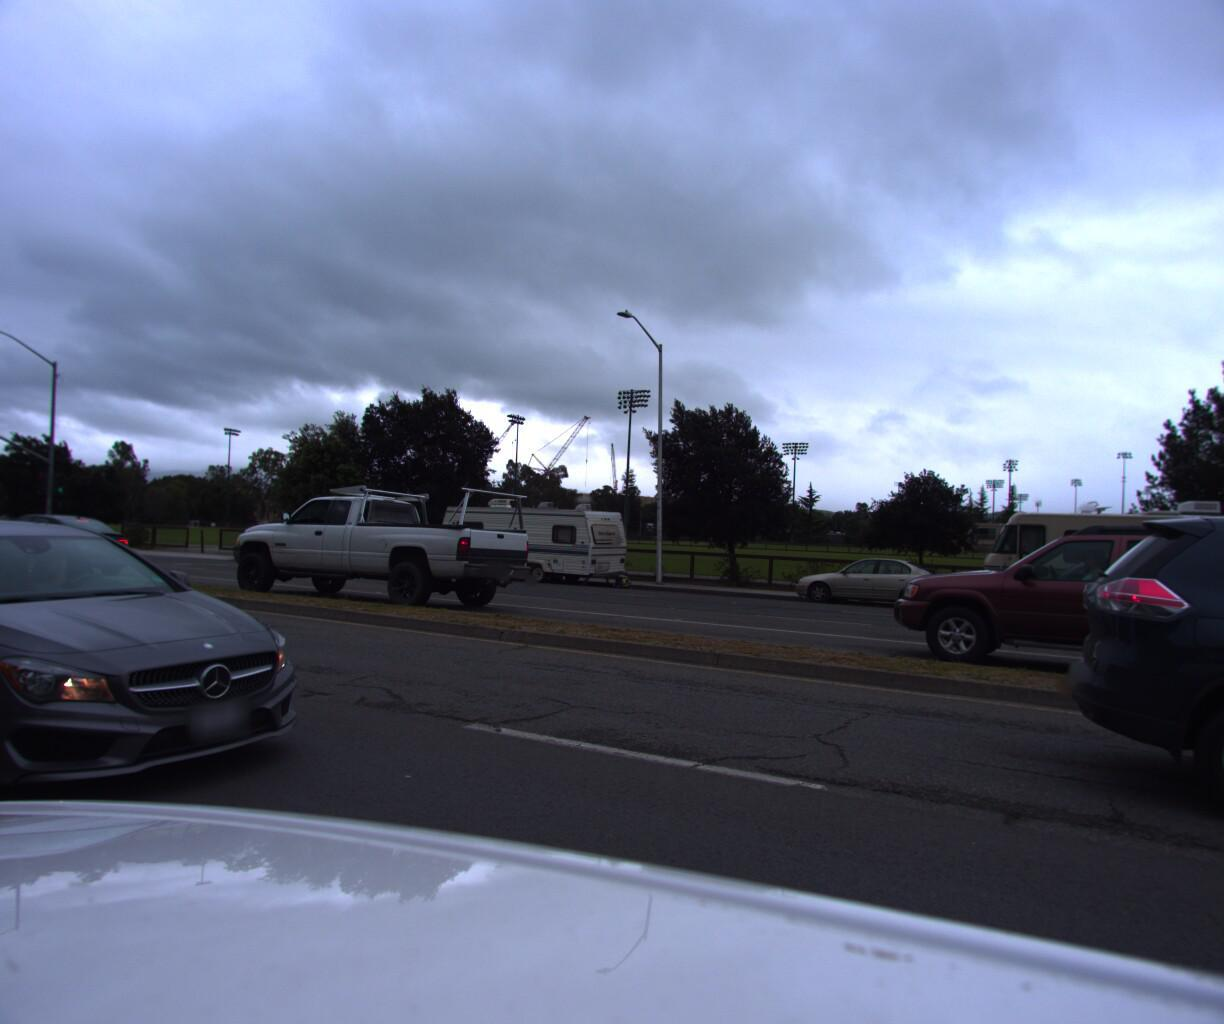car: (0, 518, 350, 854), (1036, 485, 1224, 1024), (889, 517, 1224, 714), (209, 481, 541, 617), (212, 481, 541, 617), (784, 550, 964, 615), (0, 516, 128, 579)
other_vehicle: (970, 492, 1224, 649), (411, 495, 636, 590)
